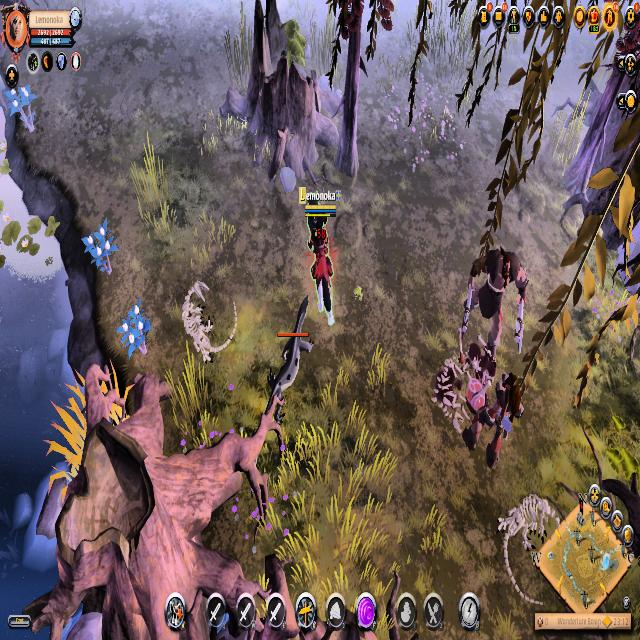fiber tier 4: (82, 220, 121, 282), (4, 84, 41, 146), (118, 301, 154, 364)
